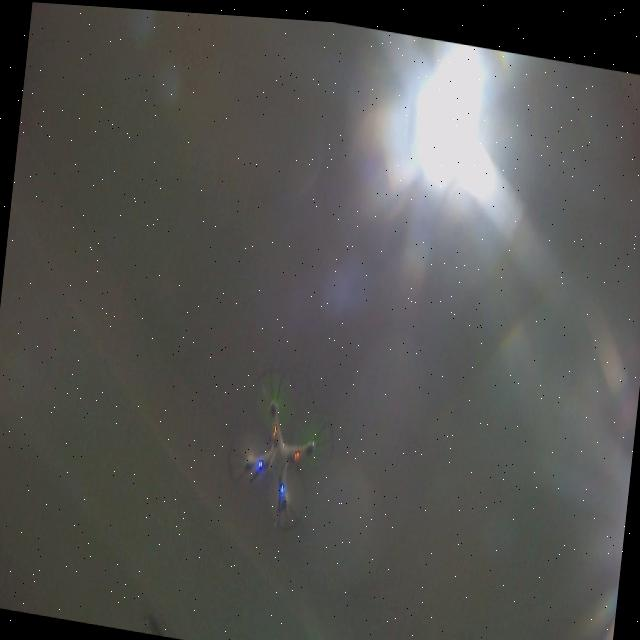drone: (218, 352, 343, 538)
